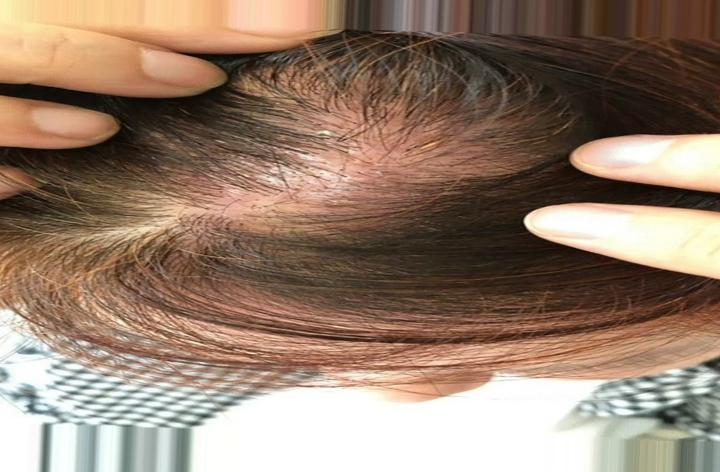Contact Dermatitis: (215, 92, 509, 255)
